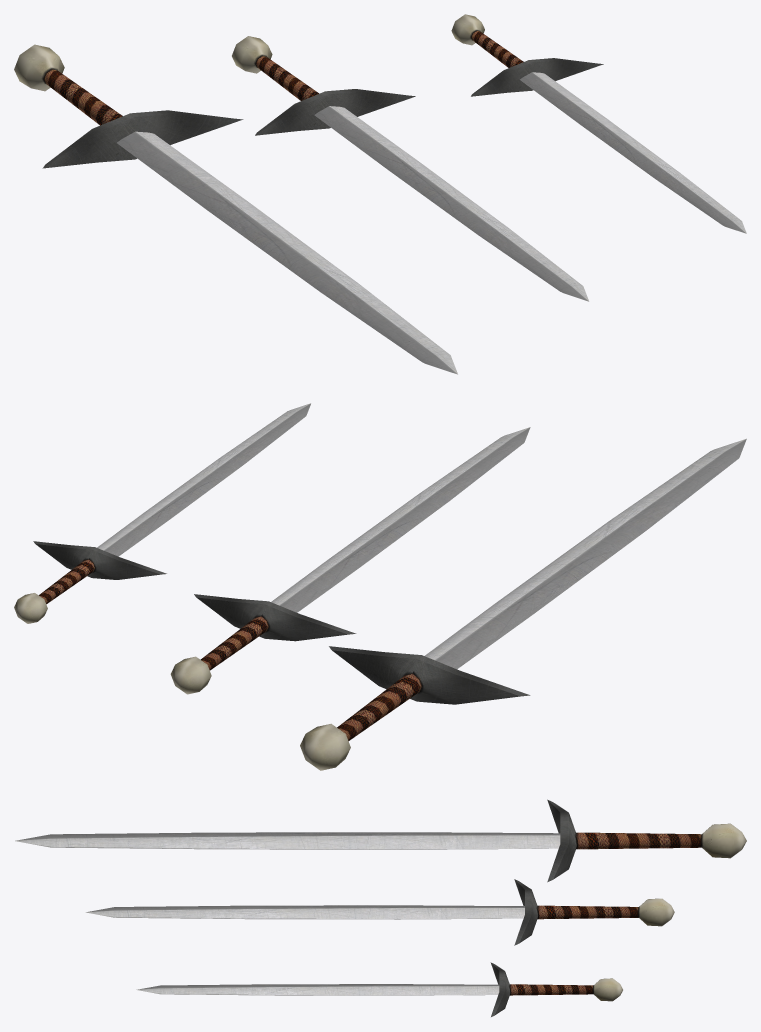
The model's file is Swords-FBX.FBX.
3 renders of one model, top to bottom at view 1: azimuth 30°, elevation 25°; view 2: azimuth 150°, elevation 25°; view 3: azimuth 270°, elevation 25°, orthographic. The views are drawn at different scales.
Visible parts, largest first — view 1: Sword_01, Sword_02, Sword_03; view 2: Sword_01, Sword_02, Sword_03; view 3: Sword_01, Sword_02, Sword_03.
Boxes of the visible parts, x1=… form: Sword_01: x1=14, y1=44, x2=457, y2=374; Sword_02: x1=232, y1=36, x2=589, y2=301; Sword_03: x1=451, y1=14, x2=746, y2=233; Sword_01: x1=300, y1=438, x2=746, y2=770; Sword_02: x1=170, y1=427, x2=530, y2=694; Sword_03: x1=14, y1=403, x2=310, y2=623; Sword_01: x1=15, y1=799, x2=746, y2=882; Sword_02: x1=85, y1=879, x2=674, y2=945; Sword_03: x1=136, y1=962, x2=622, y2=1016.
Size of the model in its own units: 69 by 5.31 by 98.05.
1 material, 1 textured.
